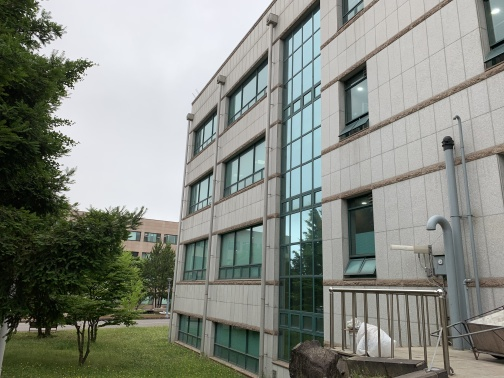Joint Experimental Labs: (121, 214, 179, 267)
Second Library: (183, 4, 492, 362)
